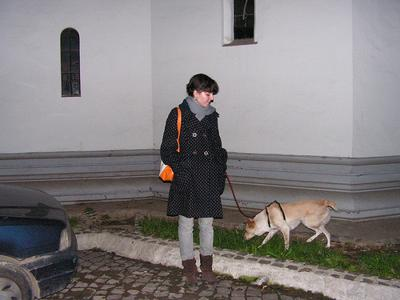person: (160, 74, 229, 288)
